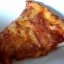pizza: (1, 2, 61, 63)
